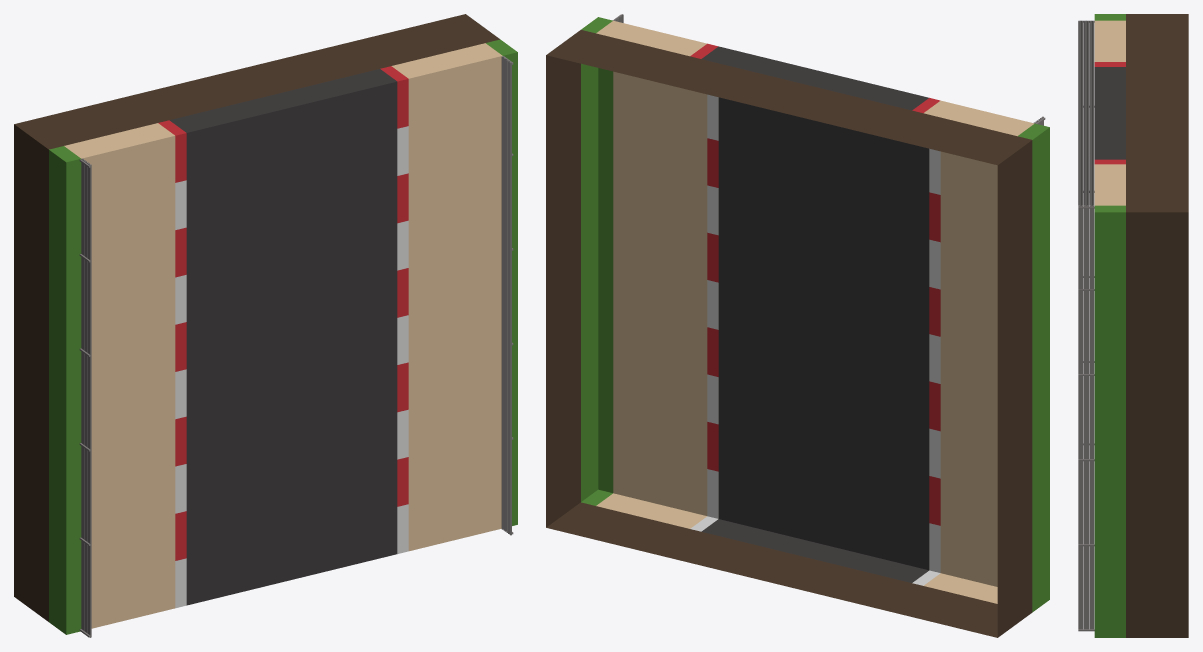
The model's file is race_dirt_straight.glb.
3 views of the same model, side by side, from view 1: azimuth 30°, elevation 25°; view 2: azimuth 150°, elevation 25°; view 3: azimuth 270°, elevation 25° (orthographic). The views are drawn at different scales.
Parts seen in each view (by area): view 1: tile-race-track-straight-curbs-sand; view 2: tile-race-track-straight-curbs-sand; view 3: tile-race-track-straight-curbs-sand.
Boxes of the visible parts, box(x1,y1,x2,y2) form: tile-race-track-straight-curbs-sand: box(14, 14, 517, 637); tile-race-track-straight-curbs-sand: box(546, 14, 1049, 637); tile-race-track-straight-curbs-sand: box(1078, 14, 1188, 637).
Bounding box in the file's own units: 30 × 30 × 7.05.
Materials: 1 (1 with a texture image).
